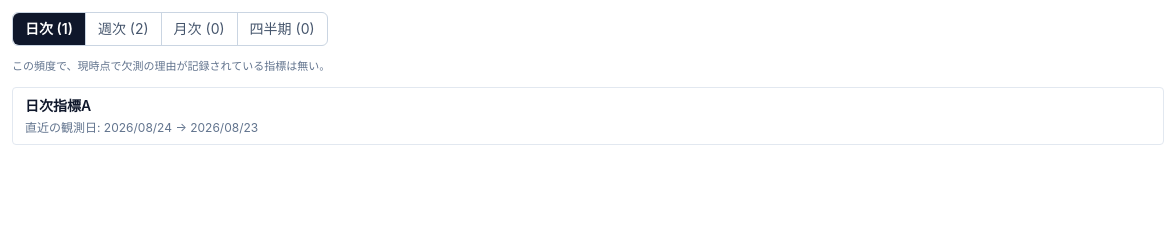
it: IndicatorStatusTabs (#330) › 週次タブに切り替えると週次の指標だけ出る
This screenshot has width=1164, height=228.
Click the button "週次 (2)".
click(124, 29)  # box [86, 13, 162, 45]
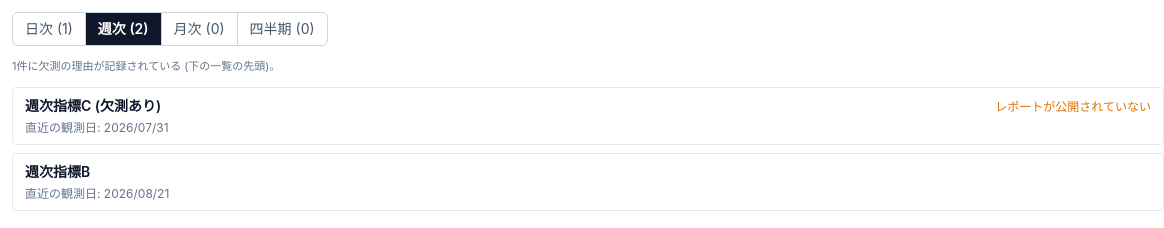
Expected: the text "週次指標B" is shown, [25, 162, 90, 182]
Expected: the text "週次指標C (欠測あり)" is shown, [25, 96, 161, 116]
Expected: the text "日次指標A" is gone
